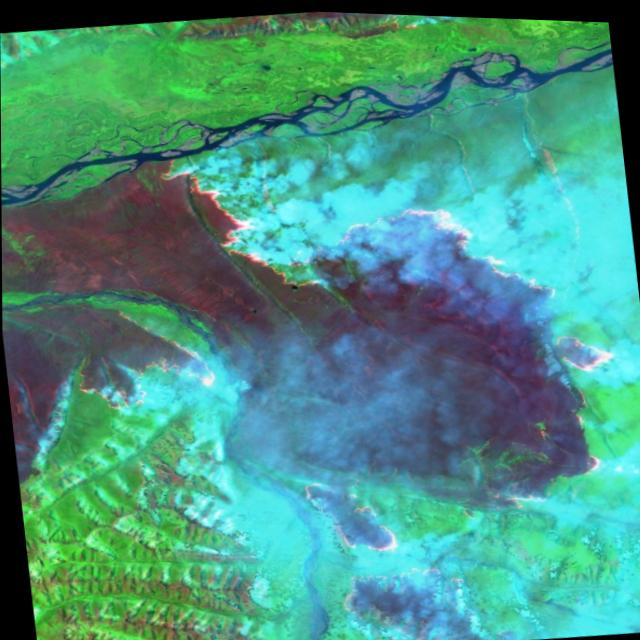fire: (1, 90, 640, 640)
